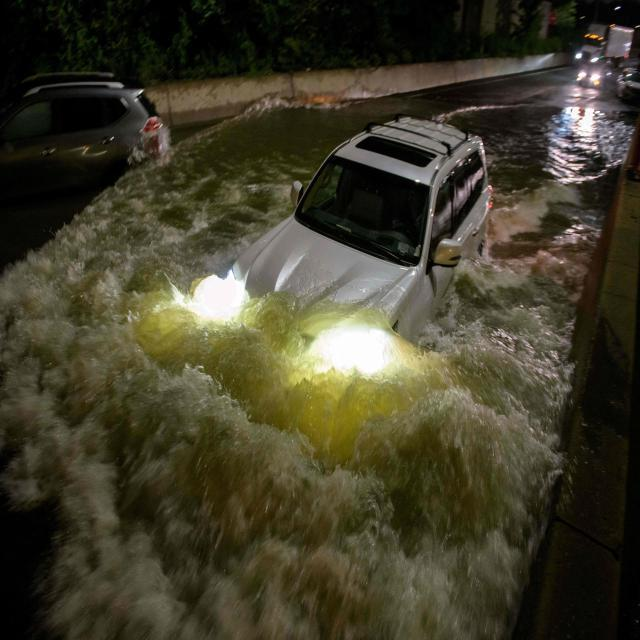water: (0, 103, 624, 637)
